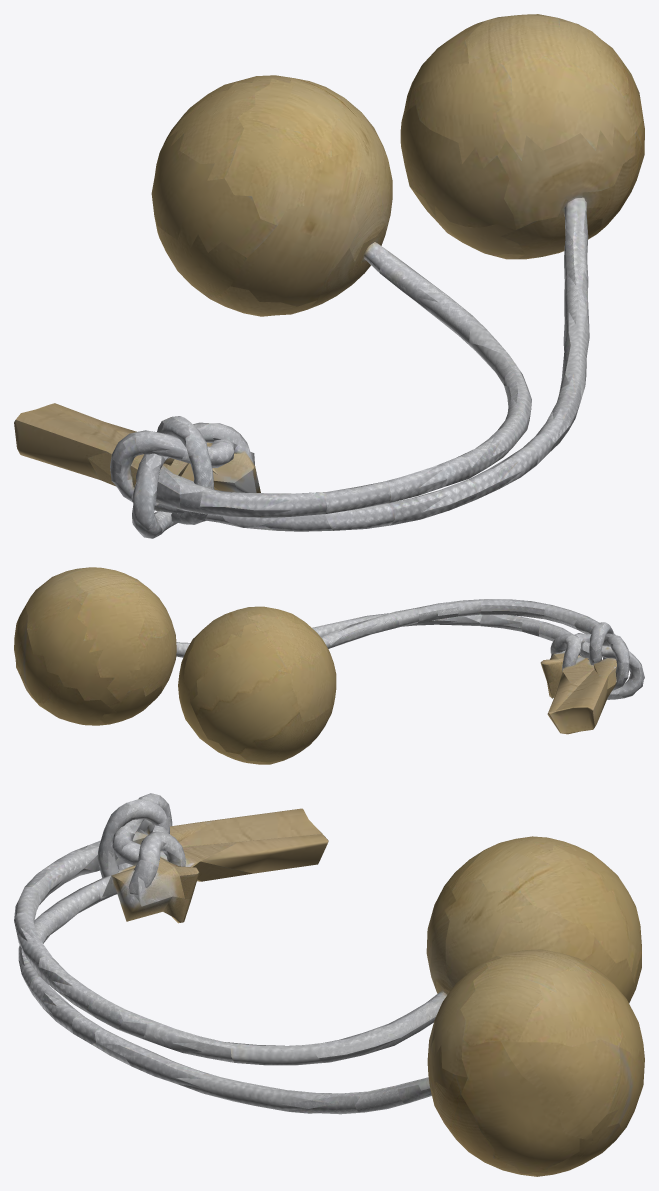
The model's file is spheres.glb.
3 renders of one model, top to bottom at view 1: azimuth 30°, elevation 25°; view 2: azimuth 150°, elevation 25°; view 3: azimuth 270°, elevation 25°, orthographic. The views are drawn at different scales.
Visible parts, largest first — view 1: mesh_node; view 2: mesh_node; view 3: mesh_node.
Part boxes in pixels (left/top/right/bottom): mesh_node: left=14, top=14, right=644, bottom=538; mesh_node: left=14, top=567, right=644, bottom=764; mesh_node: left=14, top=793, right=644, bottom=1176.
Bounding box in the file's own units: 1 × 0.29 × 0.8105.
1 material, 1 textured.
